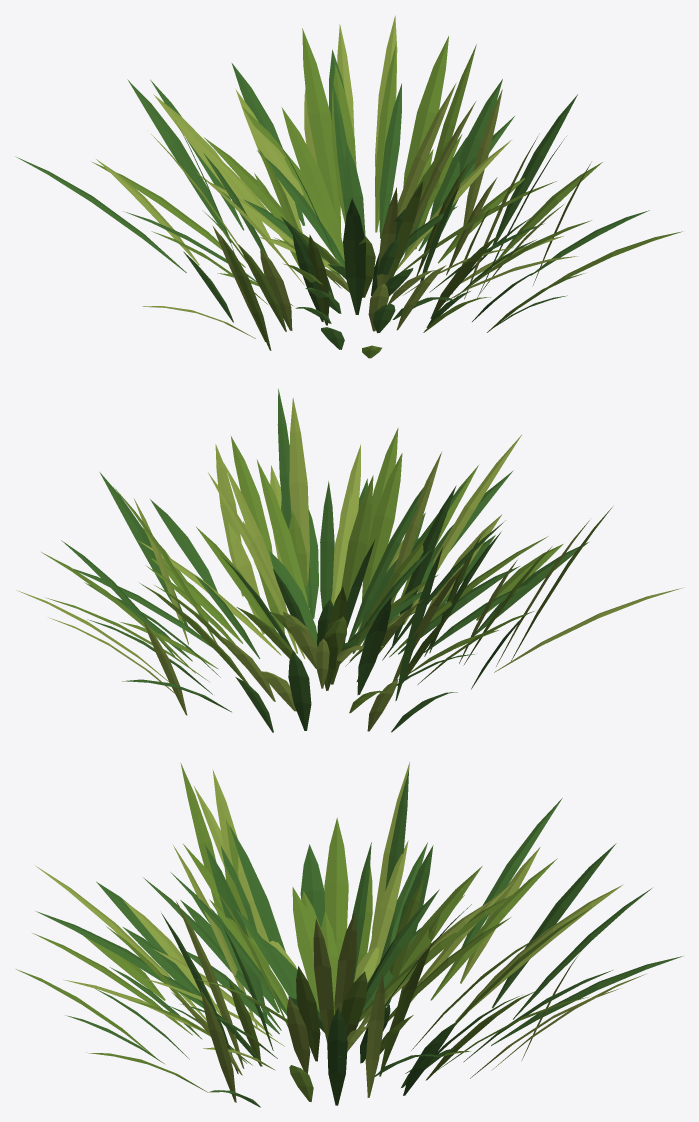
File: jungle_grass_short.glb
The picture shows the model from 3 angles, top to bottom: view 1: azimuth 30°, elevation 25°; view 2: azimuth 150°, elevation 25°; view 3: azimuth 270°, elevation 25°; orthographic projection. The views are drawn at different scales.
Visible parts, largest first — view 1: jungle_grass_short; view 2: jungle_grass_short; view 3: jungle_grass_short.
Part boxes in pixels (<box>): jungle_grass_short: <box>15,15,682,358</box>; jungle_grass_short: <box>16,388,683,732</box>; jungle_grass_short: <box>16,762,683,1107</box>.
Size of the model in its own units: 1.15 by 0.3837 by 1.21.
